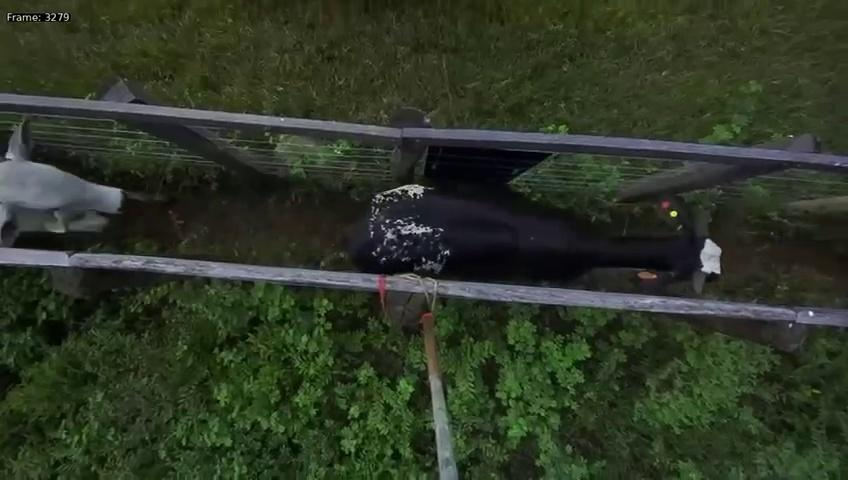cattle: (342, 175, 726, 300)
